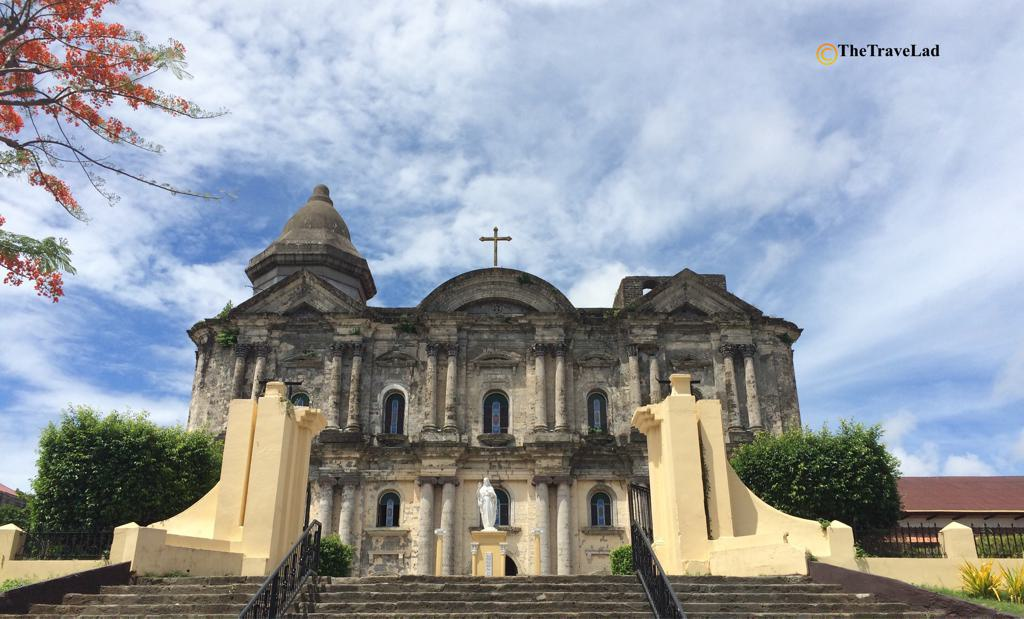taal_basilica_church_taal_batangas: (189, 173, 822, 584)
